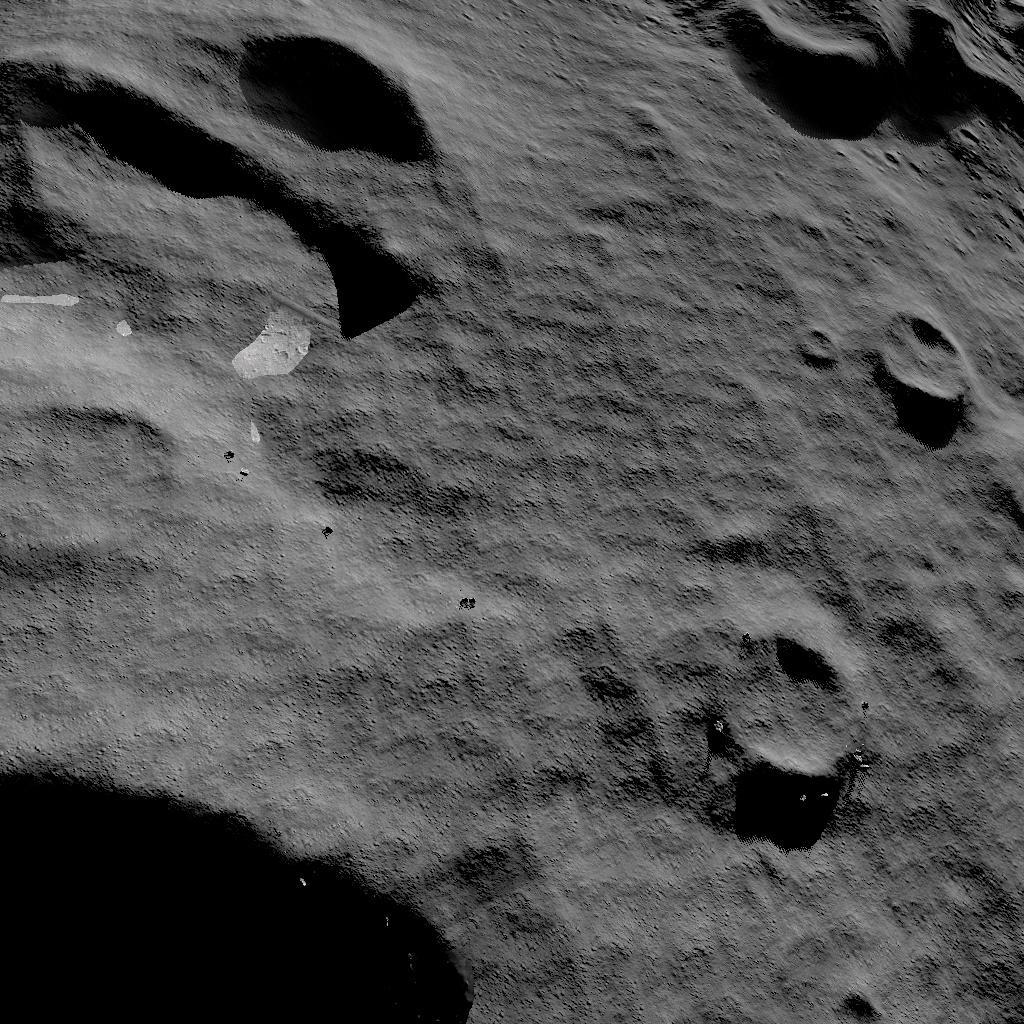Crater: (0, 28, 445, 342), (0, 760, 475, 1024), (686, 0, 1024, 176), (0, 378, 213, 580), (686, 630, 877, 830), (871, 290, 995, 428), (796, 313, 837, 376)
Plan surface: (469, 193, 763, 596), (501, 850, 1024, 1024)
